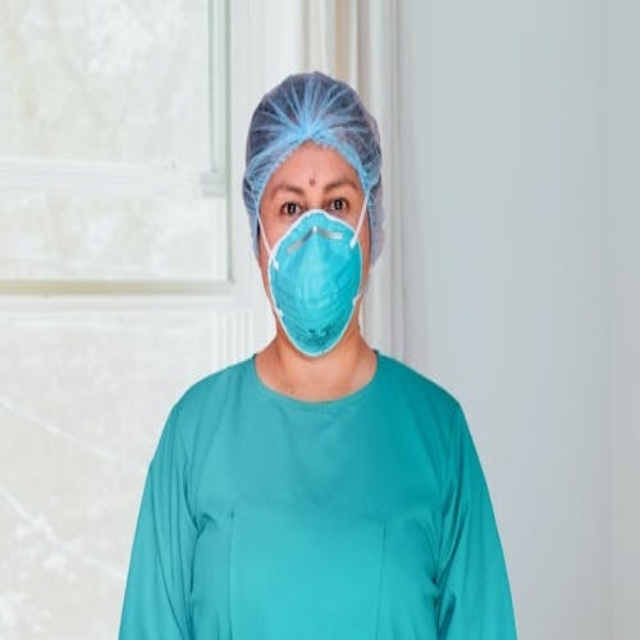Mascara: (263, 199, 365, 356)
Sin_gafas: (265, 171, 367, 229)
